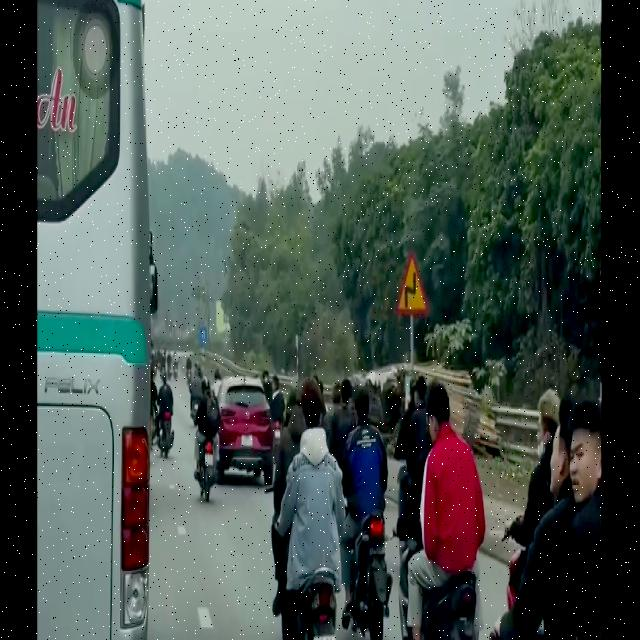no_helmet: (570, 396, 603, 518), (302, 377, 325, 452), (430, 380, 453, 447)
